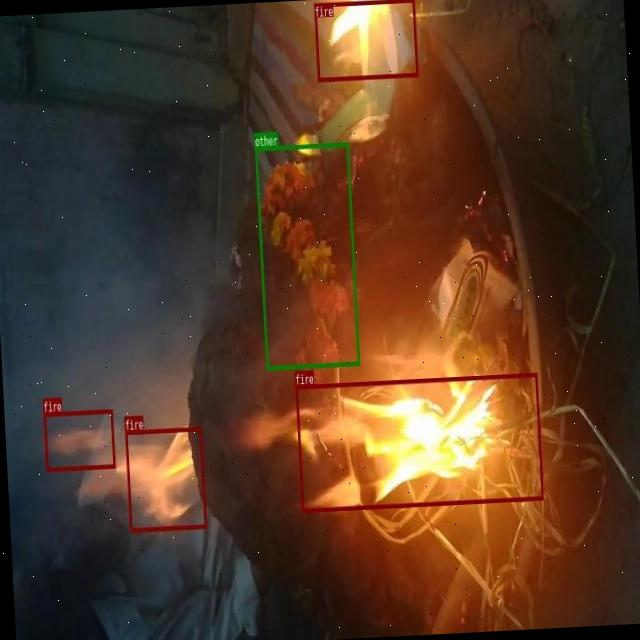fire: (296, 373, 544, 511), (125, 427, 206, 532), (313, 0, 418, 80), (44, 408, 114, 472)
